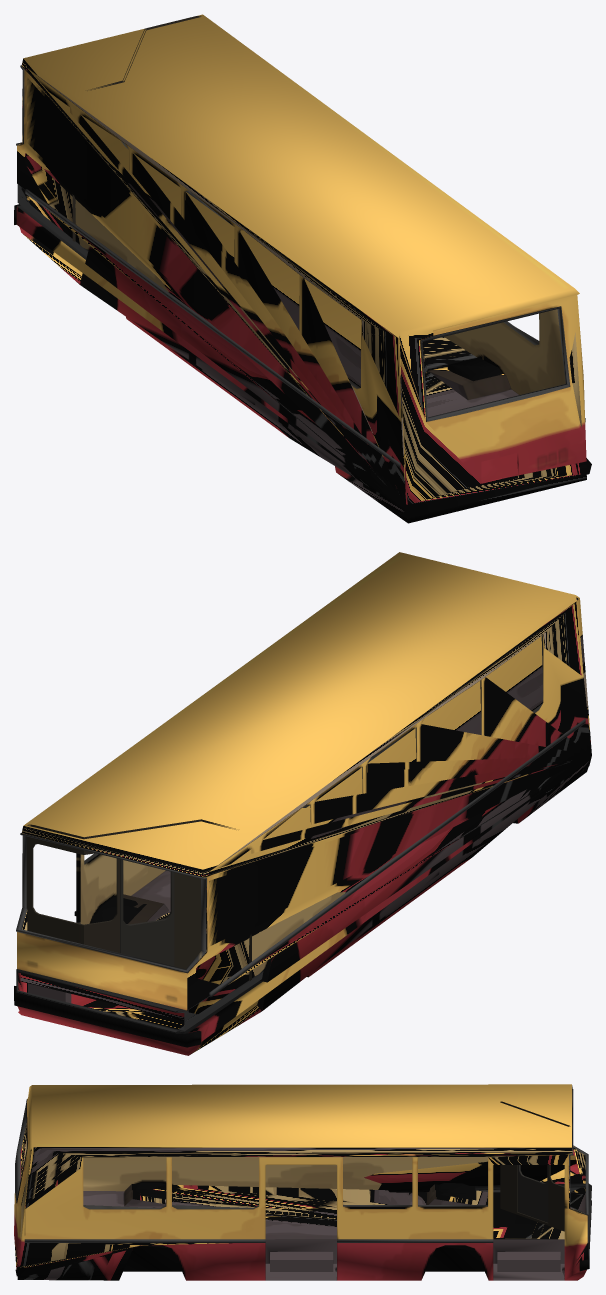
The model's file is bus-ikarus-collision.fbx.
3 views of the same model, one above another, from view 1: azimuth 30°, elevation 25°; view 2: azimuth 150°, elevation 25°; view 3: azimuth 270°, elevation 25° (orthographic). The views are drawn at different scales.
Visible parts, largest first — view 1: bus.collsion; view 2: bus.collsion, bus-wall; view 3: bus.collsion, bus-wall.
Part boxes in pixels (x1,y1,x2,y2): bus.collsion: (14, 14, 591, 523); bus.collsion: (14, 552, 591, 1055); bus-wall: (26, 819, 251, 980); bus.collsion: (14, 1084, 591, 1280); bus-wall: (500, 1101, 570, 1231).
Size of the model in its own units: 322 by 310 by 1194.
